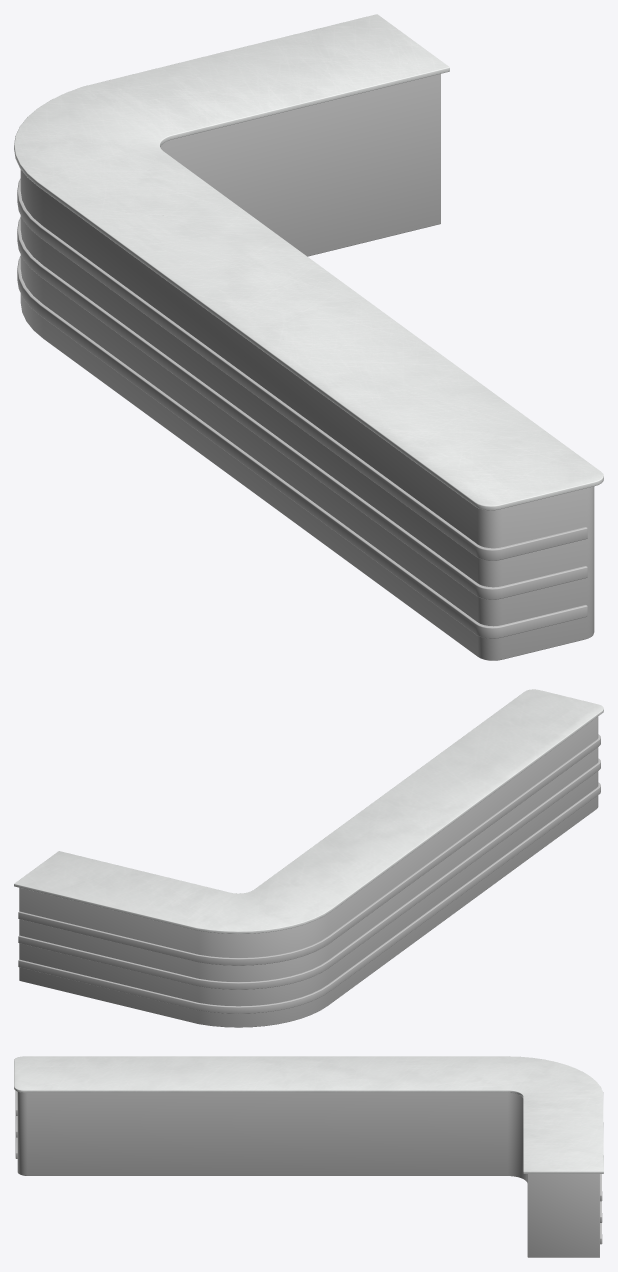
File: CounterFront.obj
The picture shows the model from 3 angles, top to bottom: view 1: azimuth 30°, elevation 25°; view 2: azimuth 150°, elevation 25°; view 3: azimuth 270°, elevation 25°; orthographic projection. The views are drawn at different scales.
Parts seen in each view (by area): view 1: counter; view 2: counter; view 3: counter.
Boxes of the visible parts, left/top/right/bottom form: counter: left=14, top=14, right=603, bottom=660; counter: left=14, top=689, right=603, bottom=1027; counter: left=14, top=1056, right=603, bottom=1257.
Size of the model in its own units: 3.06 by 1.09 by 6.63.
